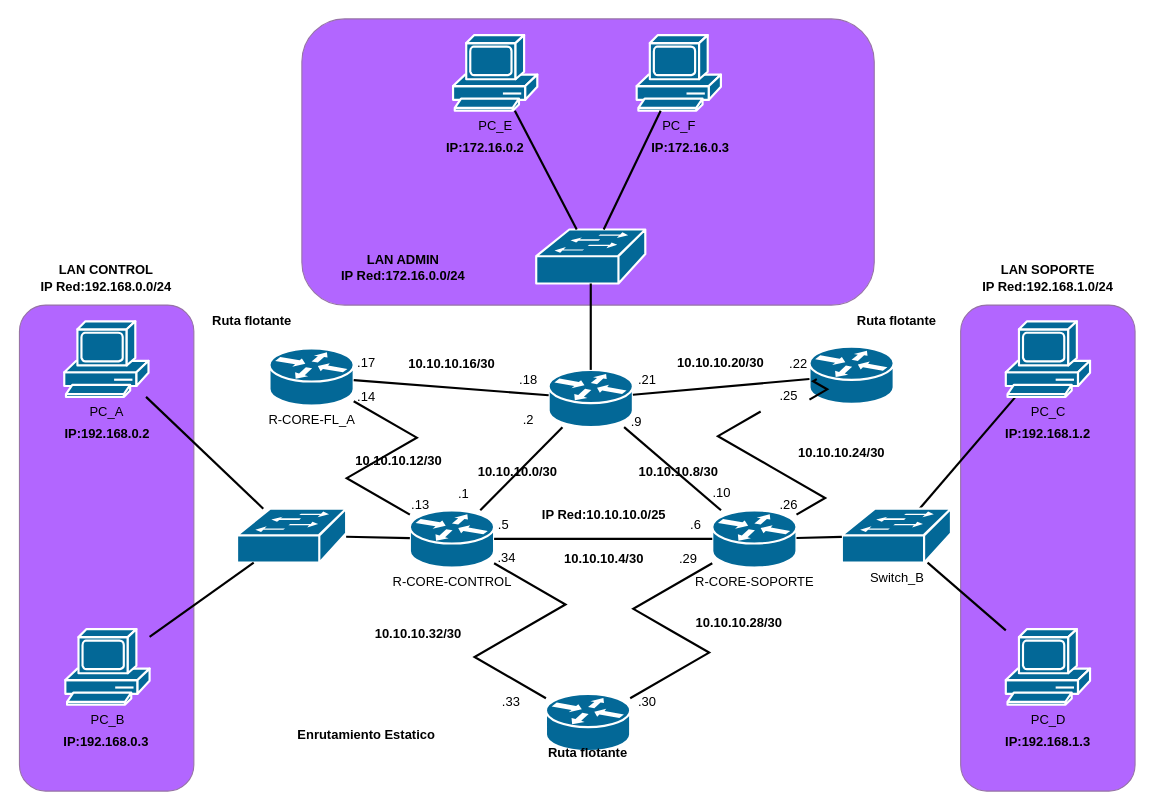
Image size: 1153x810. Some labels were removed from this diagram. Here are the shapes that lost their labels. From the top down, the centre of each, then its label:
At (x=590, y=256): "Switch_C".
At (x=851, y=374): "R-CORE-FL_B".
At (x=590, y=398): "R-CORE-ADMIN".
At (x=291, y=535): "Switch_A".
At (x=587, y=722): "R-CORE-FL_C".
